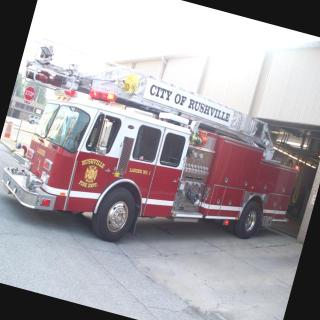Fire_truck: (0, 34, 318, 285)
